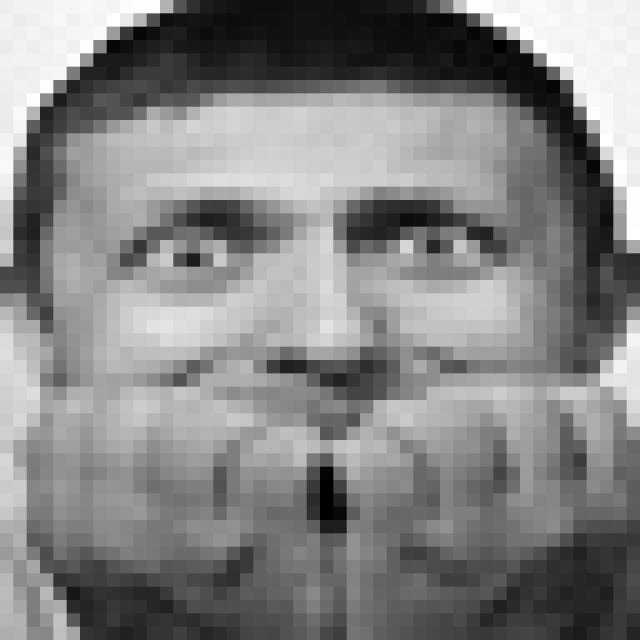fear: (98, 178, 511, 520)
